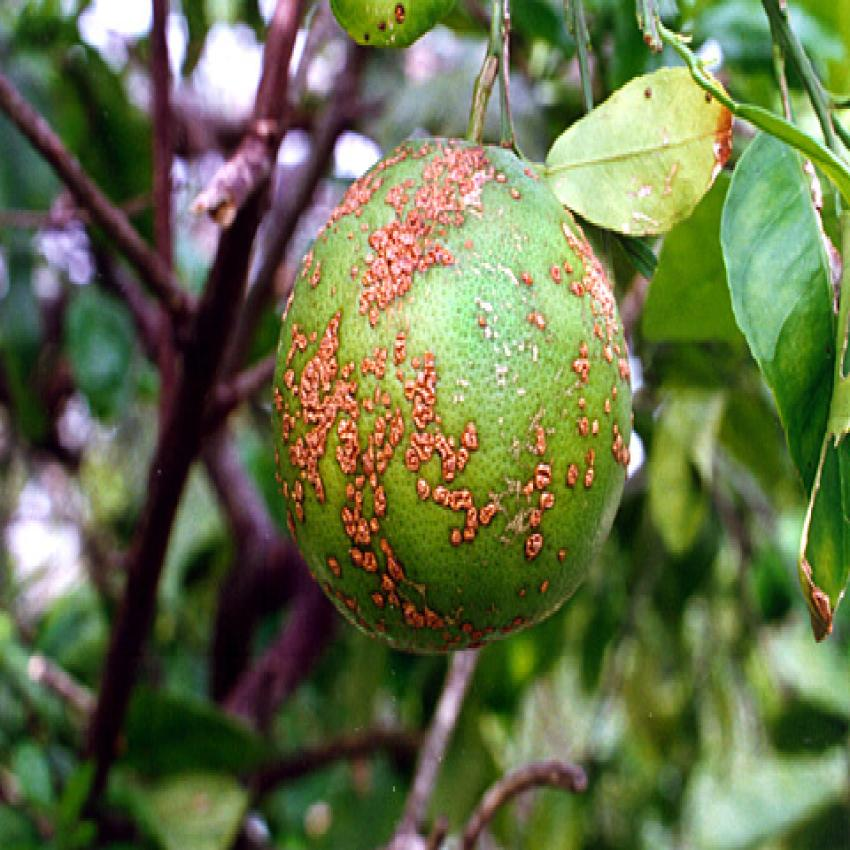Mal estado: (257, 119, 645, 672)
